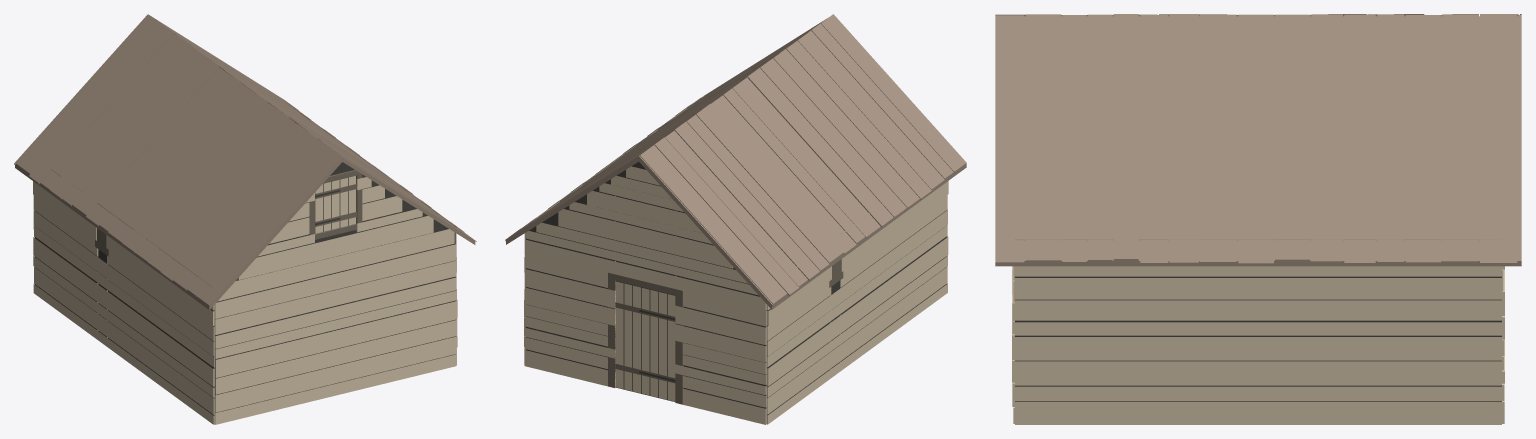
Rendered from recon_1835_north_a1_032__inferred_1835.glb.
The picture shows the model from 3 angles, left to right: view 1: azimuth 30°, elevation 25°; view 2: azimuth 150°, elevation 25°; view 3: azimuth 270°, elevation 25°; orthographic projection. The views are drawn at different scales.
Visible parts, largest first — view 1: recon_1835_north_a1_032__inferred_1835; view 2: recon_1835_north_a1_032__inferred_1835; view 3: recon_1835_north_a1_032__inferred_1835.
Part boxes in pixels (left/top/right/bottom): recon_1835_north_a1_032__inferred_1835: left=14, top=14, right=476, bottom=424; recon_1835_north_a1_032__inferred_1835: left=505, top=14, right=966, bottom=424; recon_1835_north_a1_032__inferred_1835: left=995, top=14, right=1521, bottom=424.
Bounding box in the file's own units: 6.04 × 5.22 × 7.54.
